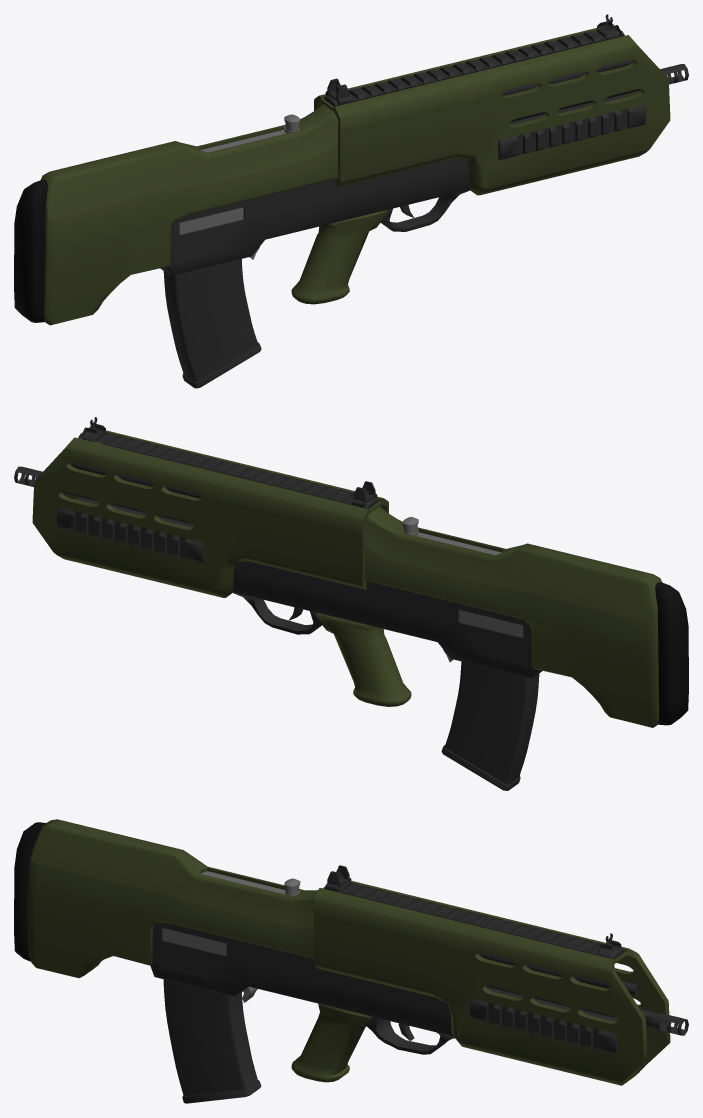
The model's file is BPAR.glb.
3 views of the same model, one above another, from view 1: azimuth 30°, elevation 25°; view 2: azimuth 150°, elevation 25°; view 3: azimuth 330°, elevation 25° (orthographic).
Visible parts, largest first — view 1: Plane.003, Plane.002, Plane.001, Cube, Cube.002, Plane.005, Cube.001, Cylinder, Cube.004; view 2: Plane.003, Plane.002, Plane.001, Cube, Cube.002, Plane.005, Cube.001, Cylinder, Cube.004; view 3: Plane.003, Plane.002, Plane.001, Cube, Cube.002, Plane.005, Cube.001, Cylinder, Cube.004, Cube.007.
Boxes of the visible parts, x1,y1,x2,y2 form: Plane.003: (314, 24, 670, 195); Plane.002: (41, 104, 338, 325); Plane.001: (160, 94, 627, 275); Cube: (163, 259, 261, 388); Cube.002: (324, 29, 645, 159); Plane.005: (291, 210, 387, 304); Cube.001: (14, 180, 48, 322); Cylinder: (501, 60, 688, 122); Cube.004: (201, 114, 299, 152); Plane.003: (32, 426, 388, 597); Plane.002: (364, 506, 662, 727); Plane.001: (75, 497, 542, 678); Cube: (441, 661, 539, 790); Cube.002: (57, 431, 378, 562); Plane.005: (315, 613, 411, 706); Cube.001: (655, 582, 688, 725); Cylinder: (14, 462, 201, 524); Cube.004: (402, 517, 501, 555); Plane.003: (314, 881, 670, 1085); Plane.002: (27, 819, 318, 978); Plane.001: (150, 922, 617, 1054); Cube: (163, 979, 261, 1103); Cube.002: (324, 881, 624, 1053); Plane.005: (291, 1003, 371, 1082); Cube.001: (14, 822, 45, 961); Cylinder: (478, 952, 688, 1035); Cube.004: (201, 871, 300, 896); Cube.007: (325, 865, 351, 892).
Bounding box in the file's own units: 0.8267 × 0.3177 × 0.0674.
